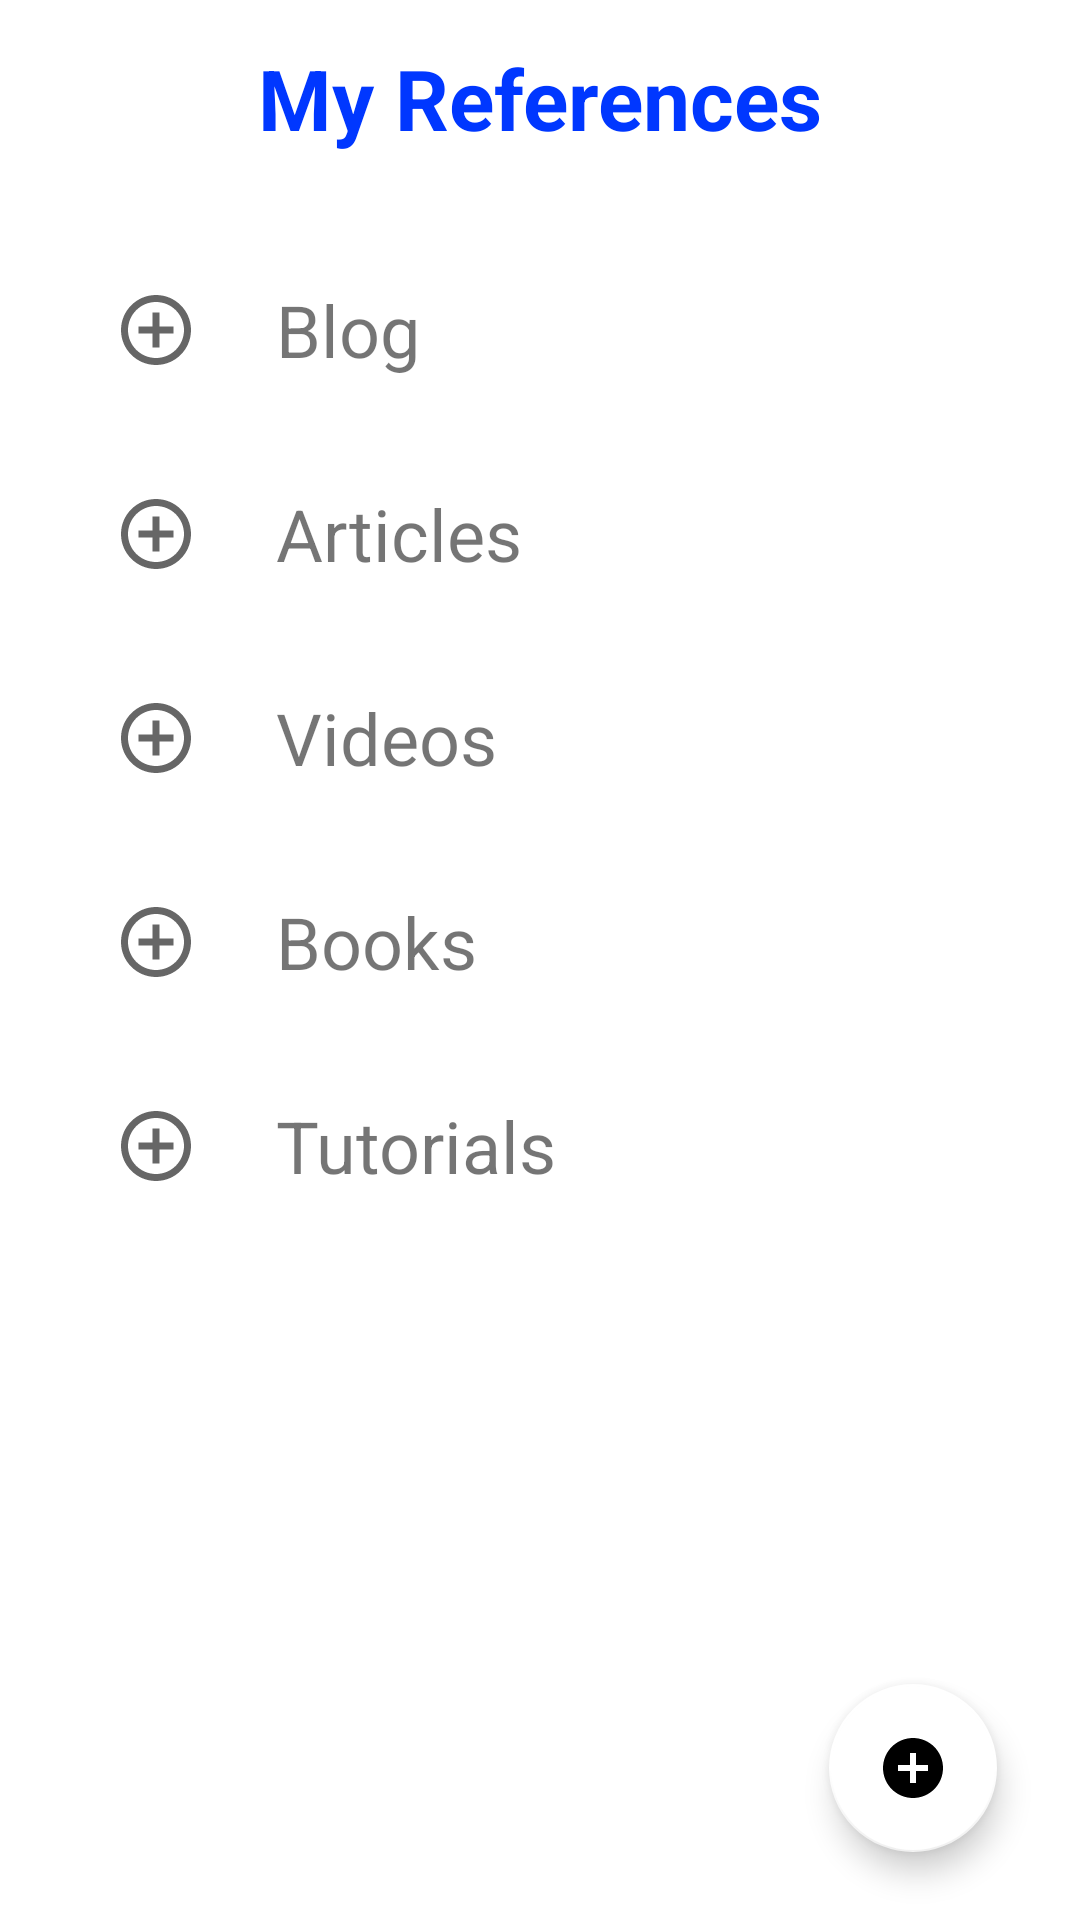

Locate icon controls on the screen. Image size 1080w x 1920h, boxes as [left=x1, top=y1, right=x2, bottom=y2].
add: [left=121, top=295, right=191, bottom=365], [left=121, top=499, right=191, bottom=569], [left=121, top=703, right=191, bottom=773], [left=121, top=907, right=191, bottom=977], [left=121, top=1111, right=191, bottom=1181]
